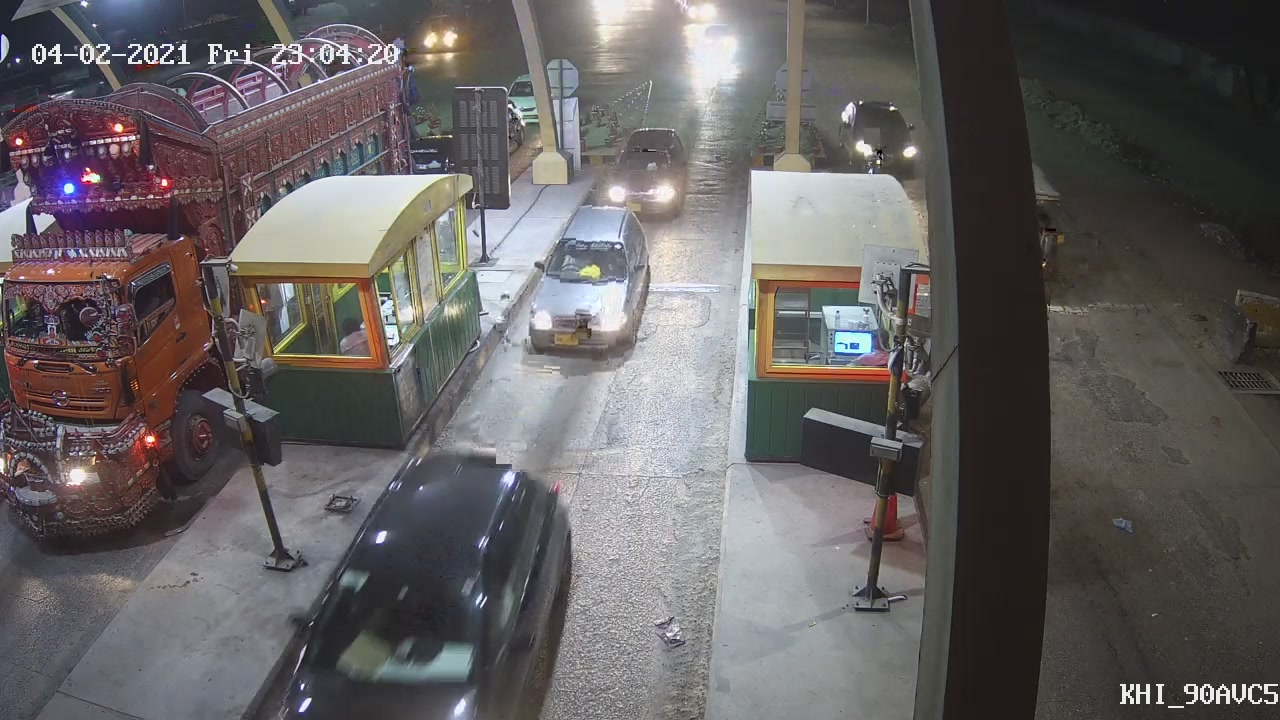F1: (523, 203, 655, 360)
